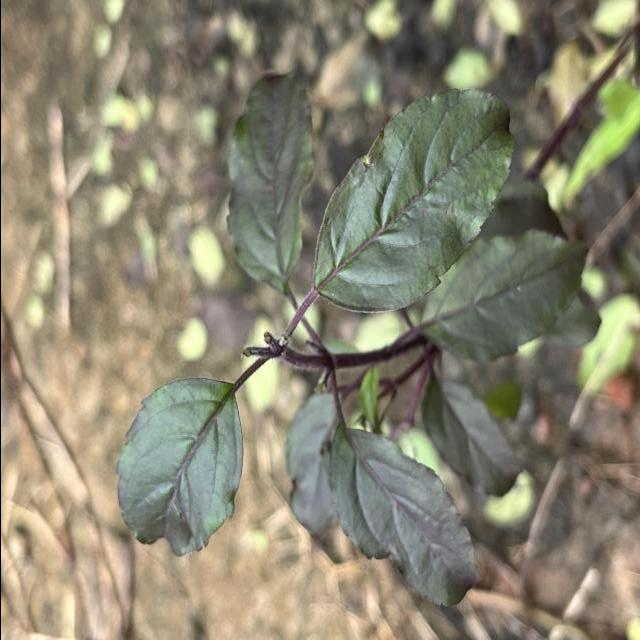Ocimum tenuiflorum: (308, 86, 516, 314), (113, 374, 244, 558)
